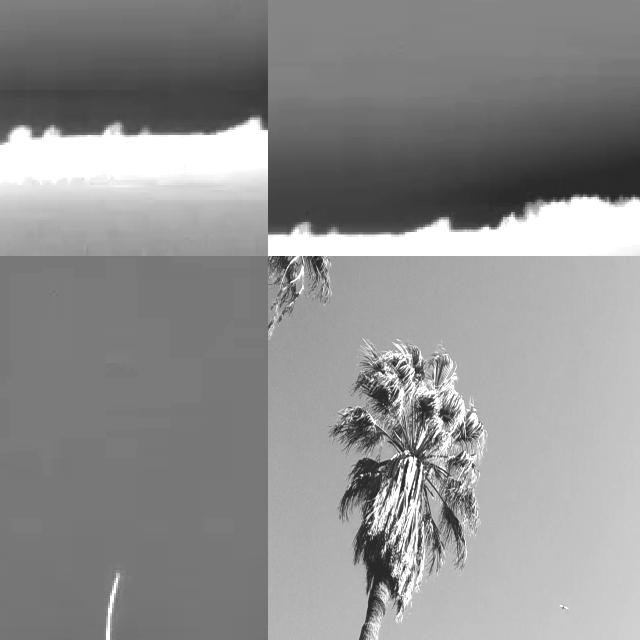drone: (555, 600, 571, 613)
